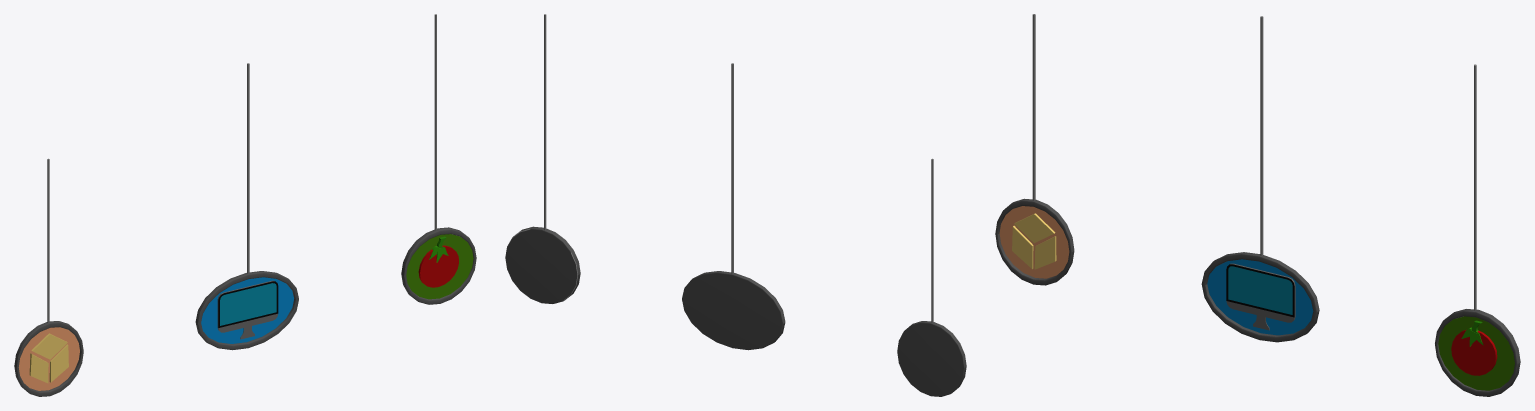
File: Panneau_indications_deco.fbx
3 renders of one model, left to right at view 1: azimuth 30°, elevation 25°; view 2: azimuth 150°, elevation 25°; view 3: azimuth 330°, elevation 25°, orthographic. The views are drawn at different scales.
Parts seen in each view (by area): view 1: pCube2, pCylinder8, pCylinder10; view 2: pCube2, pCylinder8, pCylinder10; view 3: pCube2, pCylinder8, pCylinder10.
Part boxes in pixels (<box>): pCube2: <box>195,63,298,350</box>; pCylinder8: <box>401,14,476,304</box>; pCylinder10: <box>14,158,83,396</box>; pCube2: <box>682,63,785,350</box>; pCylinder8: <box>505,14,580,303</box>; pCylinder10: <box>897,158,966,396</box>; pCube2: <box>1201,16,1319,342</box>; pCylinder8: <box>1435,64,1520,396</box>; pCylinder10: <box>995,14,1074,285</box>.
Bounding box in the file's own units: 3030 × 1821 × 50.7.
